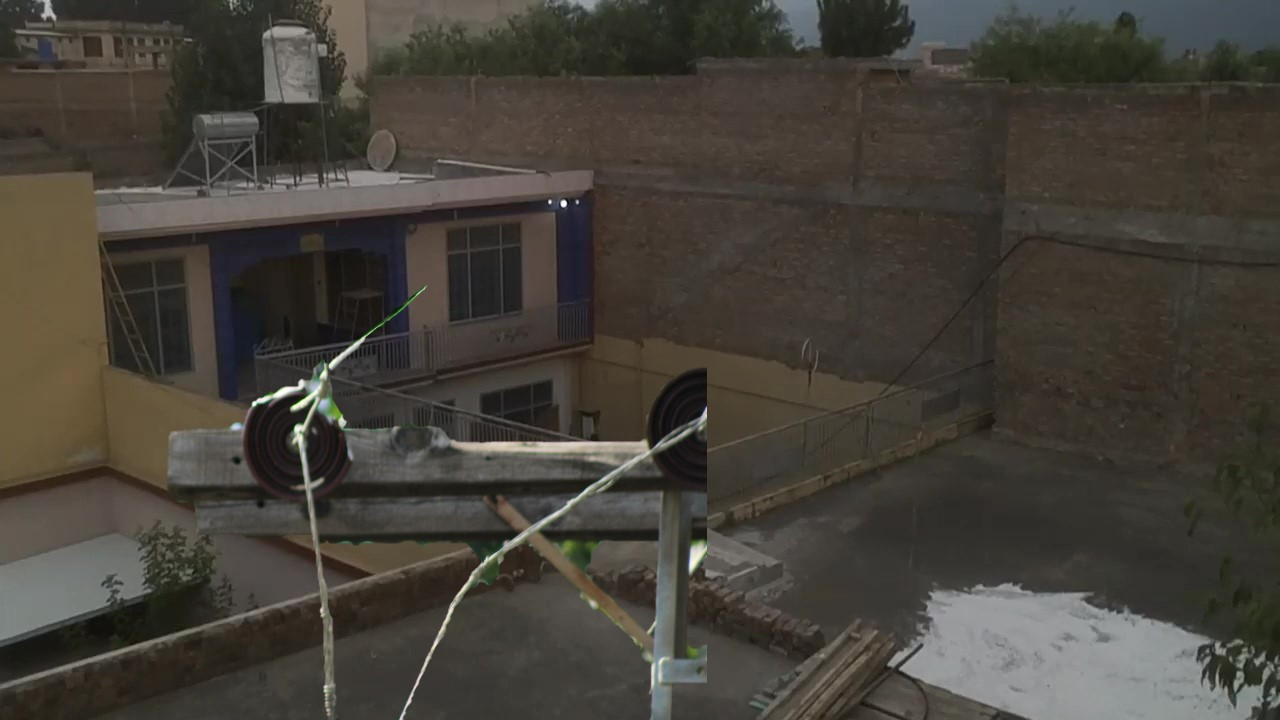defect_disc: (240, 383, 359, 508)
